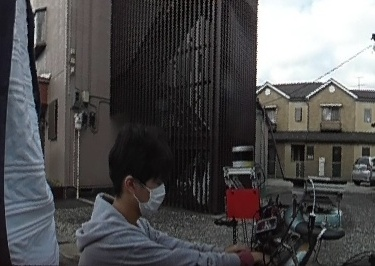person: (71, 127, 202, 266)
